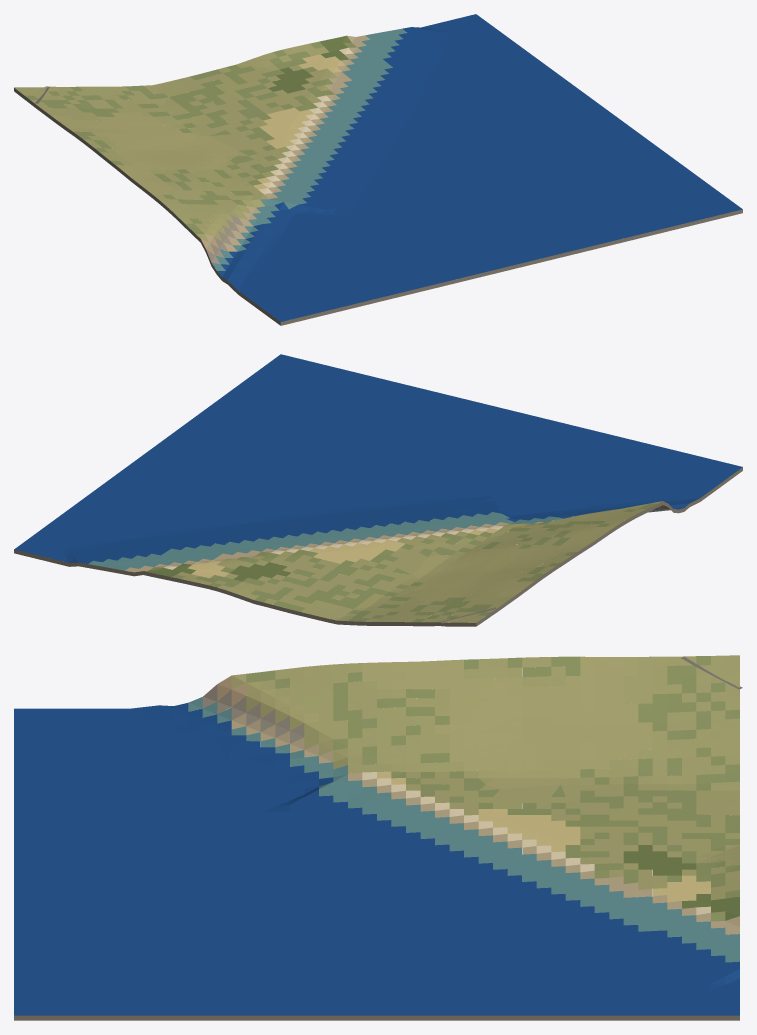
Rendered from parca_+14_-5-uzak.glb.
3 renders of one model, top to bottom at view 1: azimuth 30°, elevation 25°; view 2: azimuth 150°, elevation 25°; view 3: azimuth 270°, elevation 25°, orthographic. The views are drawn at different scales.
Parts seen in each view (by area): view 1: parca_+14_-5_arazi_uzak; view 2: parca_+14_-5_arazi_uzak; view 3: parca_+14_-5_arazi_uzak.
Part boxes in pixels (left/top/right/bottom): parca_+14_-5_arazi_uzak: left=14, top=14, right=742, bottom=325; parca_+14_-5_arazi_uzak: left=14, top=354, right=742, bottom=626; parca_+14_-5_arazi_uzak: left=14, top=655, right=739, bottom=1020.
Bounding box in the file's own units: 1001 × 89.31 × 1004.
